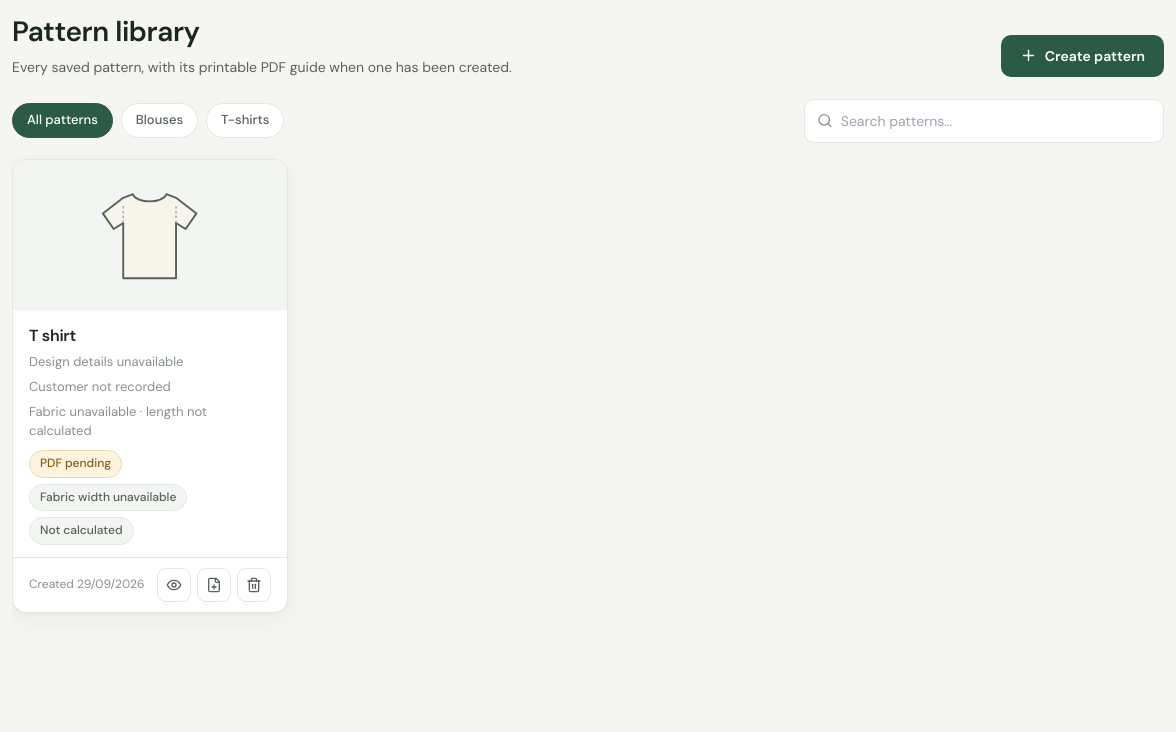
Pattern library › creates the pending PDF and refreshes the list
Click the button named "Create PDF".
click(214, 585)  # box [197,568,231,602]
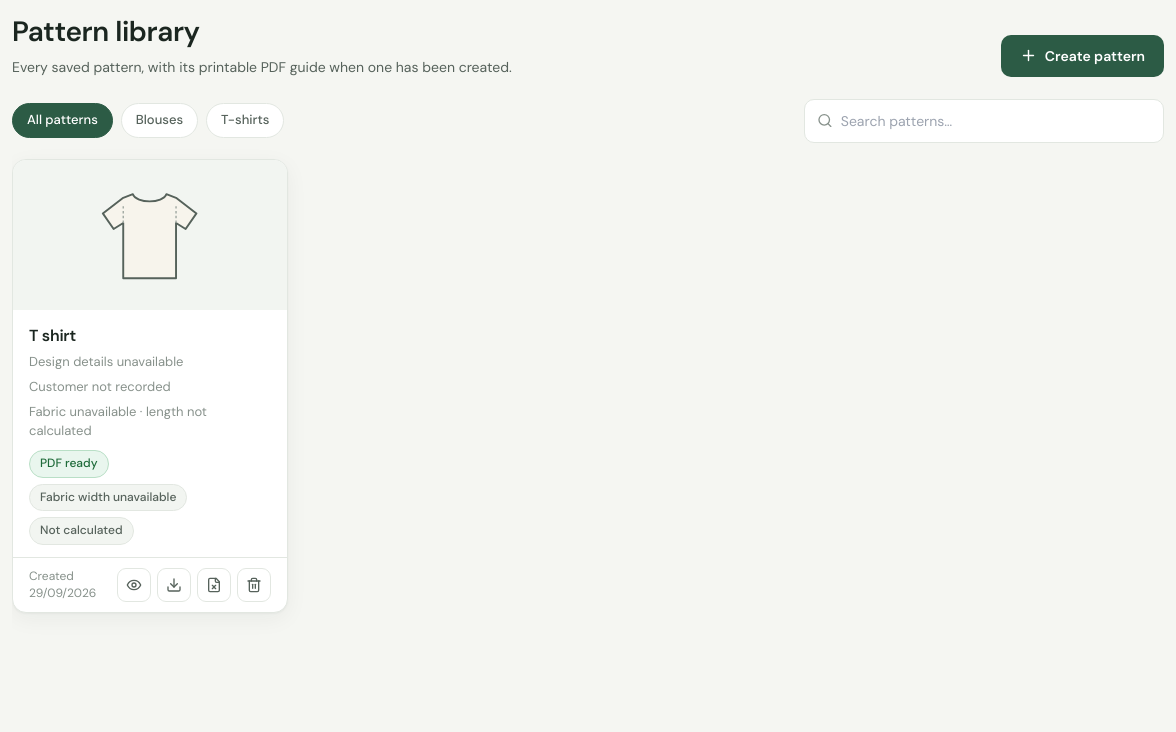
Check: the text with test id "pdf-status-p2" reads "PDF ready", box [40,456,98,472]
